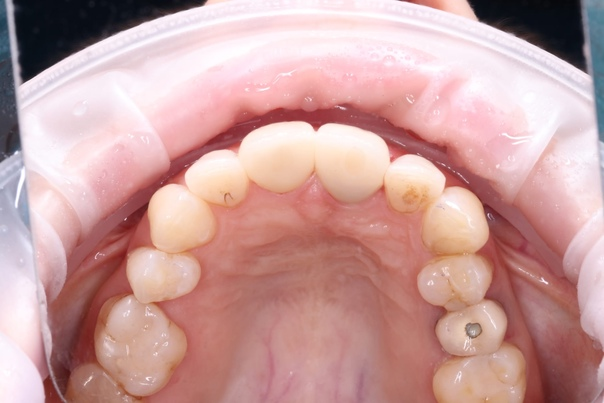UL1BC_healthy: (418, 255, 490, 306)
UL1M_healthy: (435, 353, 526, 403)
UL2BC_decay: (438, 304, 505, 355)
ULCI_healthy: (314, 124, 388, 201)
ULC_healthy: (427, 188, 489, 253)
ULLI_decay: (388, 155, 444, 210)
UR1BC_healthy: (127, 251, 200, 302)
UR2BC_healthy: (98, 299, 184, 393)
URCI_healthy: (242, 122, 315, 190)
URC_healthy: (148, 185, 215, 251)
URLI_decay: (187, 152, 246, 205)
